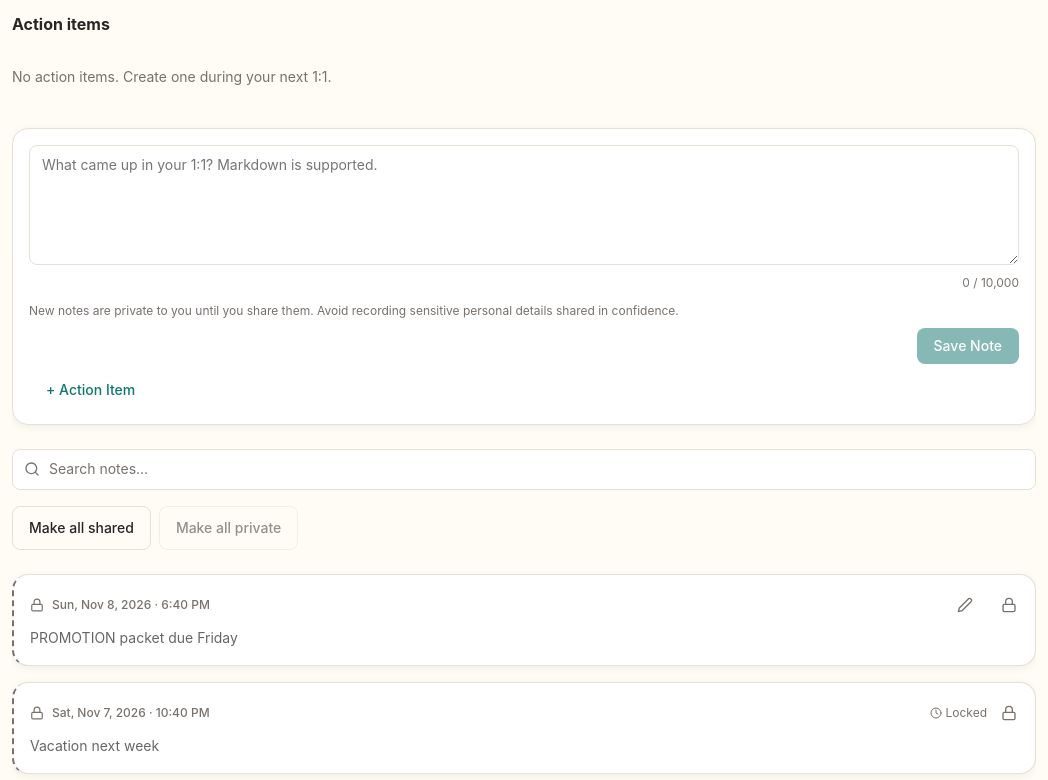
NotesSection › search › search with no results shows "No notes found" message
Type "zzz" into the search field labelled "Search notes".
click(524, 469); type("zzz")  # box [12,449,1036,490]
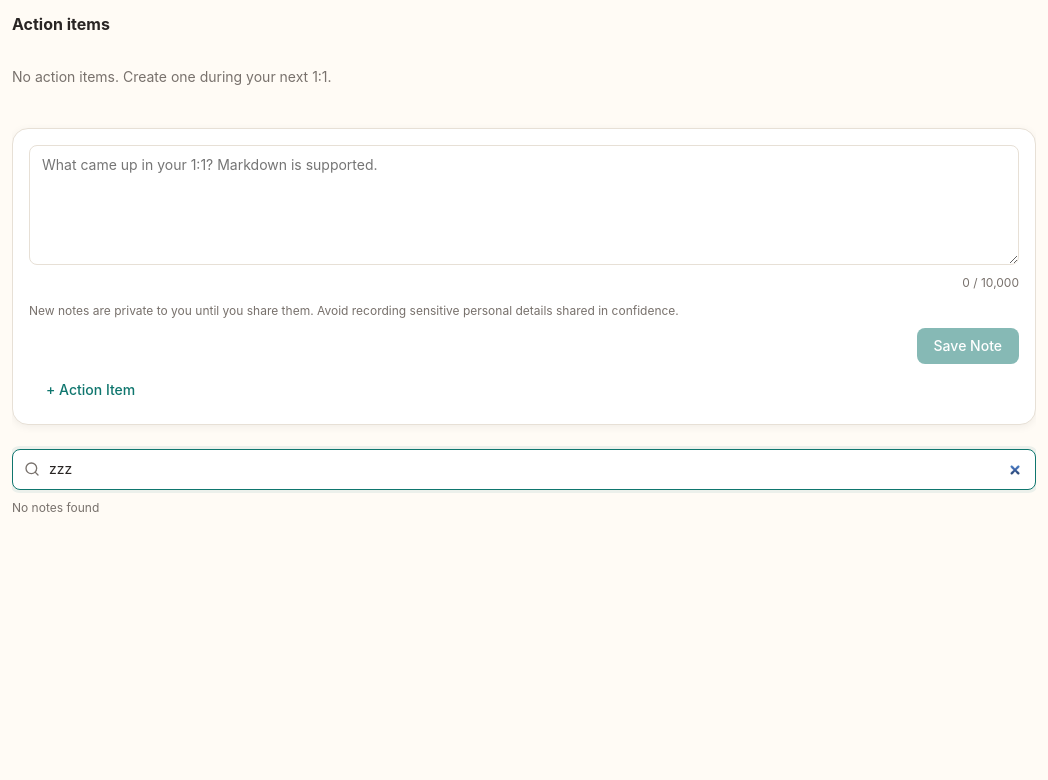
Check: the text "No notes found" is shown, box [12,500,99,515]
